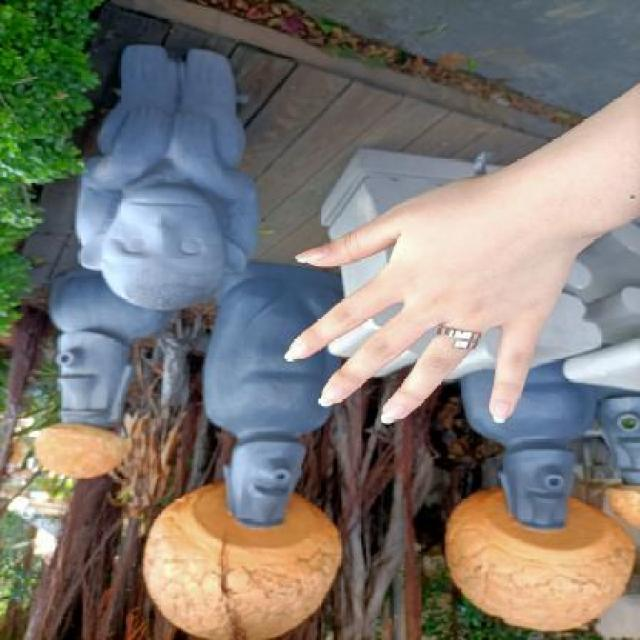bare_hand: (257, 162, 605, 460)
